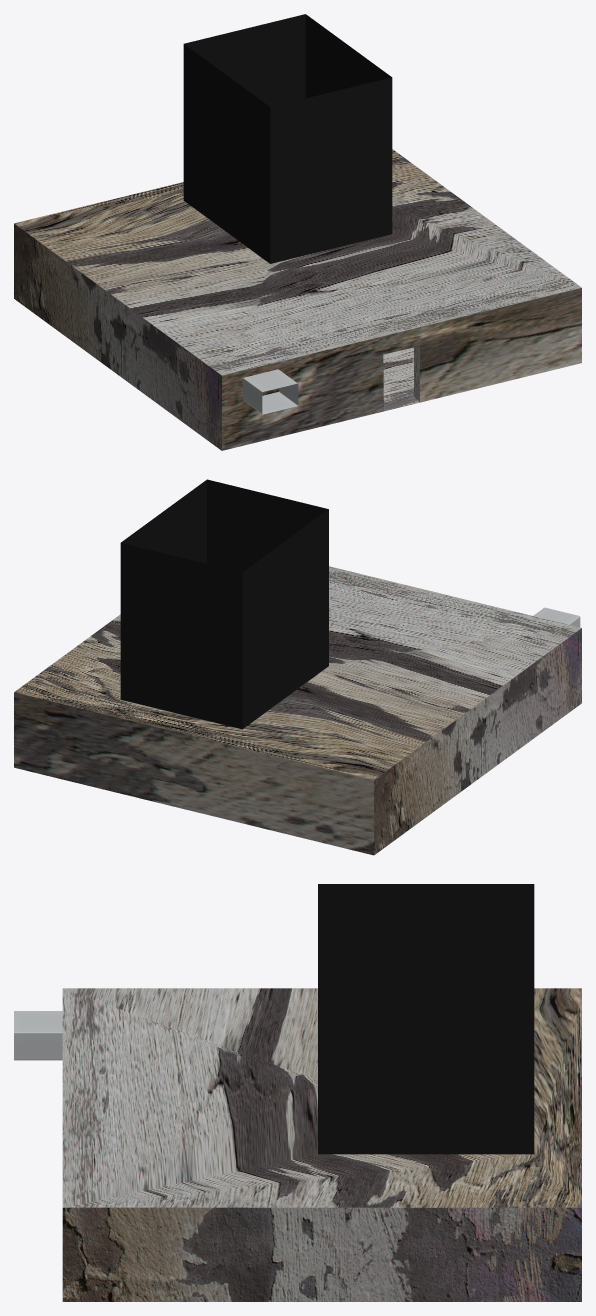
Rendered from darkness_simwithbasement.glb.
3 views of the same model, one above another, from view 1: azimuth 30°, elevation 25°; view 2: azimuth 150°, elevation 25°; view 3: azimuth 270°, elevation 25° (orthographic). The views are drawn at different scales.
Visible parts, largest first — view 1: Cube.017-col, darkness_simulator-col, defaultMaterial.014; view 2: Cube.017-col, darkness_simulator-col, defaultMaterial.014; view 3: Cube.017-col, darkness_simulator-col, defaultMaterial.014.
Boxes of the visible parts, x1,y1,x2,y2 form: Cube.017-col: [14, 149, 581, 450]; darkness_simulator-col: [183, 14, 392, 263]; defaultMaterial.014: [243, 369, 298, 414]; Cube.017-col: [14, 566, 581, 855]; darkness_simulator-col: [120, 479, 328, 729]; defaultMaterial.014: [533, 607, 580, 627]; Cube.017-col: [62, 988, 581, 1301]; darkness_simulator-col: [318, 884, 534, 1154]; defaultMaterial.014: [14, 1011, 62, 1060].
Bounding box in the file's own units: 20 × 12.32 × 21.87.
5 materials, 4 textured.
